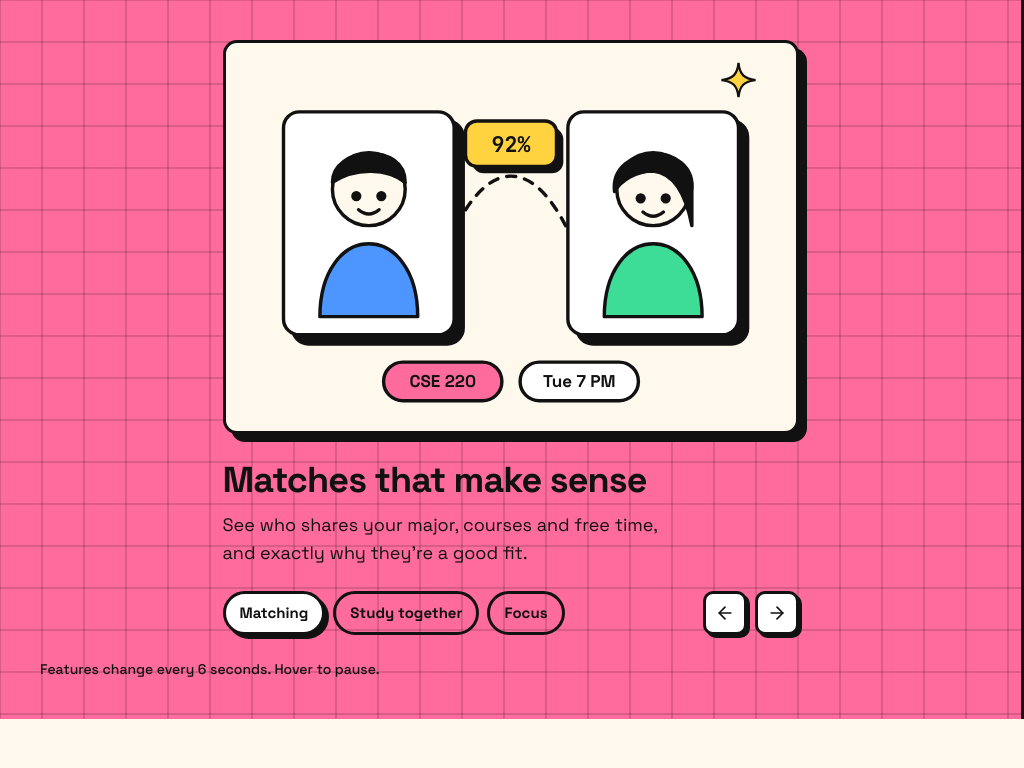
it: FeaturePanel › switches slides from the tabs and arrows
This screenshot has width=1024, height=768.
Expected: the heading "Matches that make sense" is shown, [222,457,647,503]
Step 1. Click the tab "Focus" → (526, 613), box [488,591,564,635]
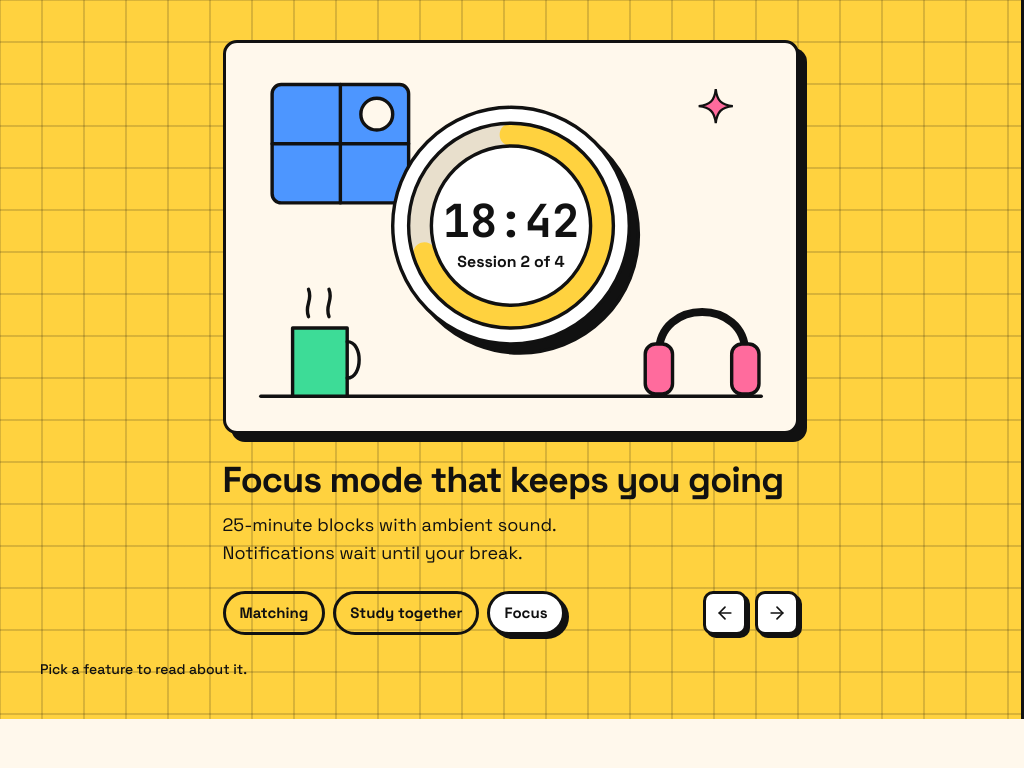
Expected: the heading "Focus mode that keeps you going" is shown, [222,458,798,503]
Step 2. Click the button named "Next feature" → (776, 613), box [754,591,798,635]
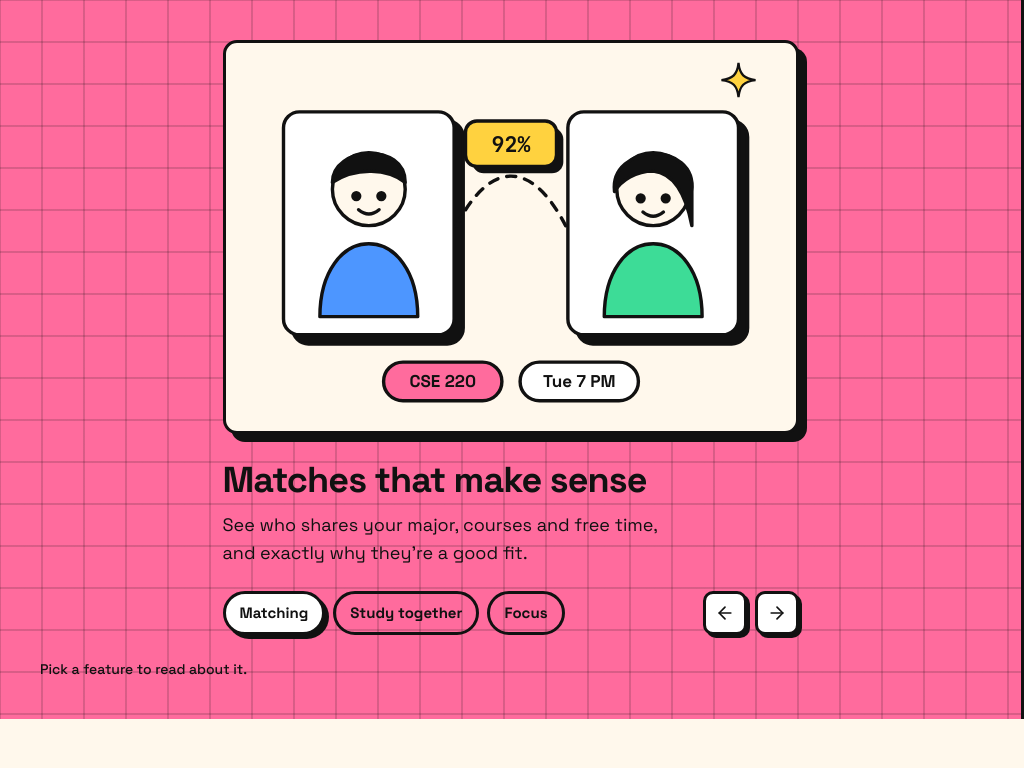
Expected: the heading "Matches that make sense" is shown, [222,457,647,503]
